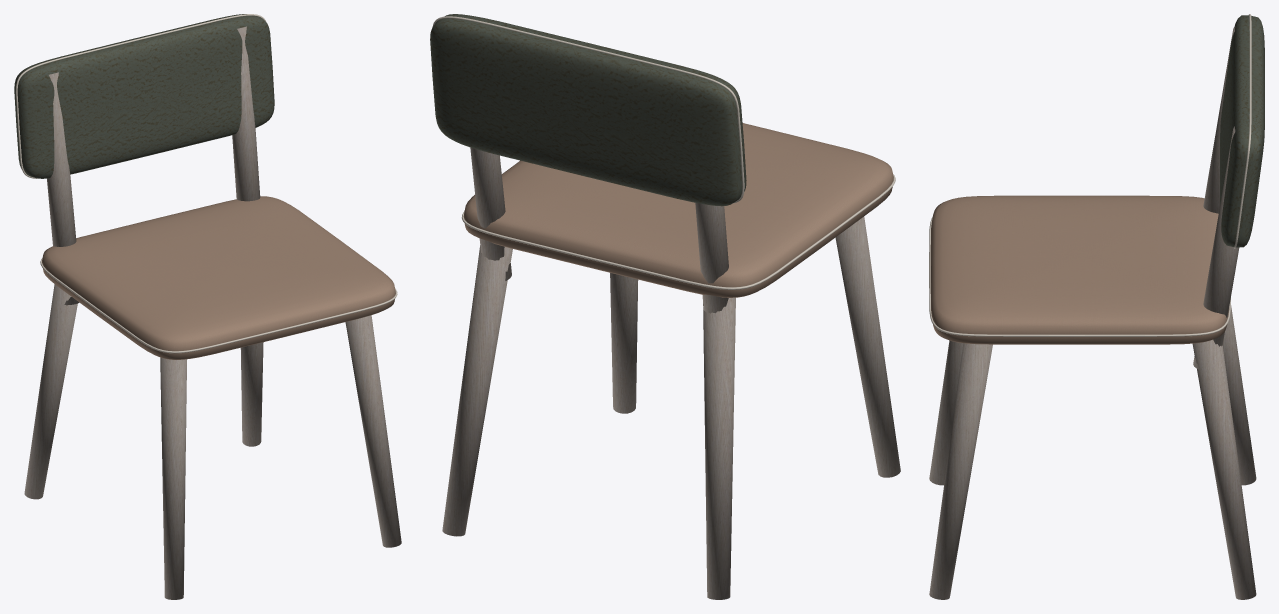
The model's file is modern.dining_chair.gltf.
3 renders of one model, left to right at view 1: azimuth 30°, elevation 25°; view 2: azimuth 150°, elevation 25°; view 3: azimuth 270°, elevation 25°, orthographic. The views are drawn at different scales.
Visible parts, largest first — view 1: modern.dining_chair.leg; view 2: modern.dining_chair.leg; view 3: modern.dining_chair.leg.
Boxes of the visible parts, x1,y1,x2,y2 form: modern.dining_chair.leg: [14, 14, 401, 599]; modern.dining_chair.leg: [430, 14, 900, 599]; modern.dining_chair.leg: [929, 14, 1264, 599].
Bounding box in the file's own units: 0.4897 × 0.7936 × 0.5156.
Materials: 4 (3 with a texture image).
